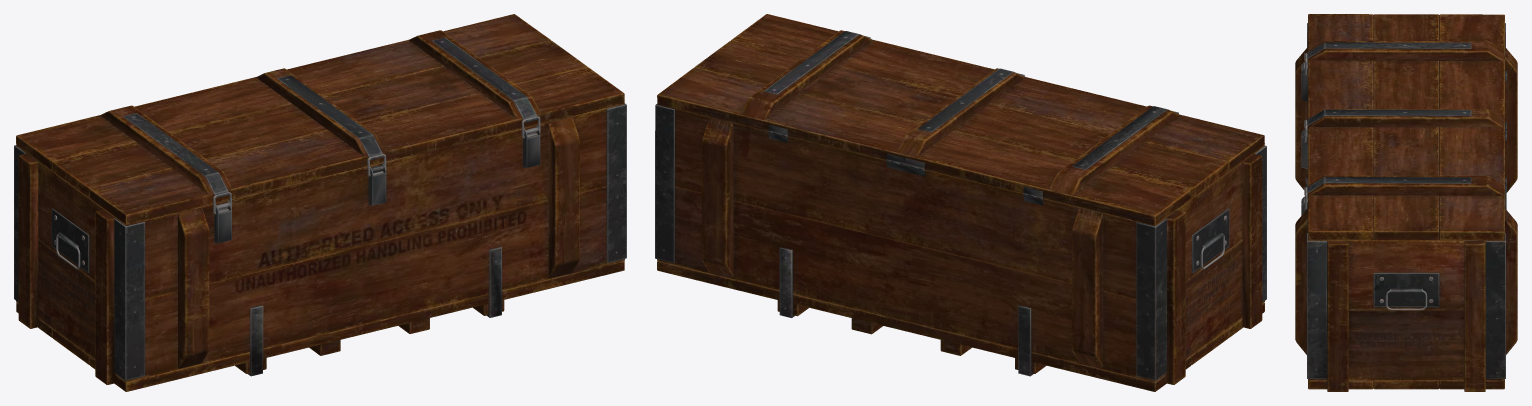
File: wooden_military_crate.glb
3 views of the same model, side by side, from view 1: azimuth 30°, elevation 25°; view 2: azimuth 150°, elevation 25°; view 3: azimuth 270°, elevation 25° (orthographic). The views are drawn at different scales.
Parts seen in each view (by area): view 1: wooden_military_crate; view 2: wooden_military_crate; view 3: wooden_military_crate.
Part boxes in pixels (box(x1,y1,x2,y2)): wooden_military_crate: box(14, 14, 626, 391); wooden_military_crate: box(655, 14, 1266, 391); wooden_military_crate: box(1295, 14, 1517, 391).
Bounding box in the file's own units: 1.24 × 0.4648 × 0.5198.
Materials: 1 (1 with a texture image).
